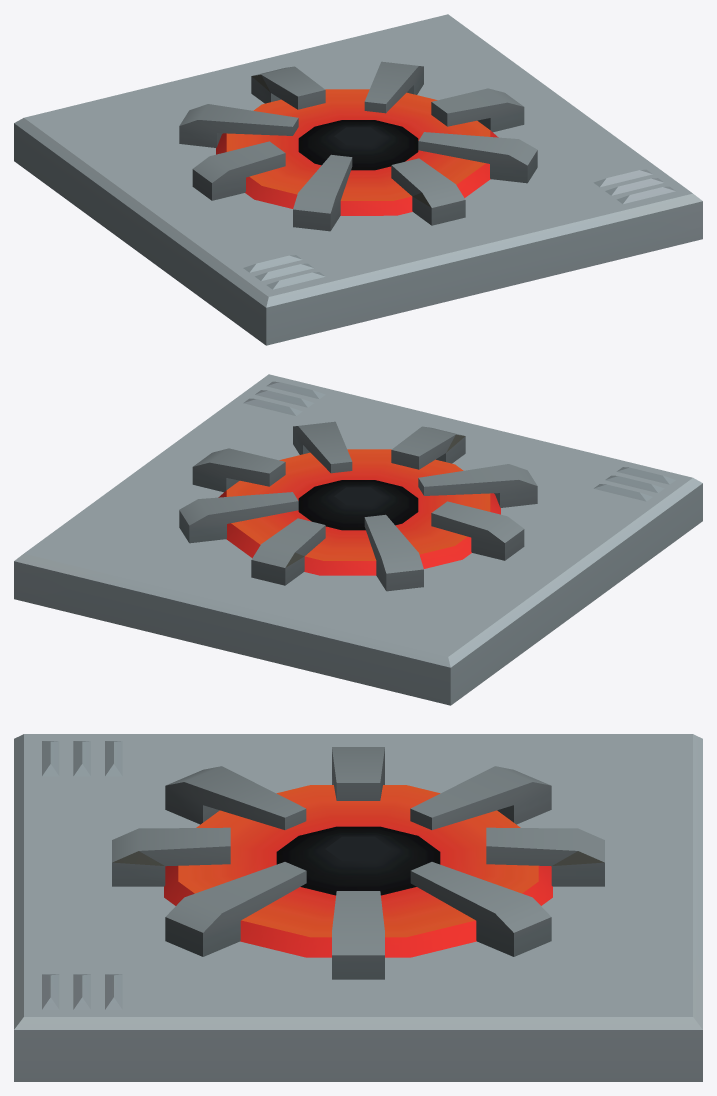
Rendered from kkr.stove_single_countertop.glb.
3 views of the same model, one above another, from view 1: azimuth 30°, elevation 25°; view 2: azimuth 150°, elevation 25°; view 3: azimuth 270°, elevation 25° (orthographic). The views are drawn at different scales.
Visible parts, largest first — view 1: stove_single_countertop; view 2: stove_single_countertop; view 3: stove_single_countertop.
Part boxes in pixels (bbox=[...]): stove_single_countertop: bbox=[14, 14, 702, 345]; stove_single_countertop: bbox=[14, 374, 702, 705]; stove_single_countertop: bbox=[14, 734, 702, 1081].
Bounding box in the file's own units: 1.3 × 0.2069 × 1.3.
1 material, 1 textured.
